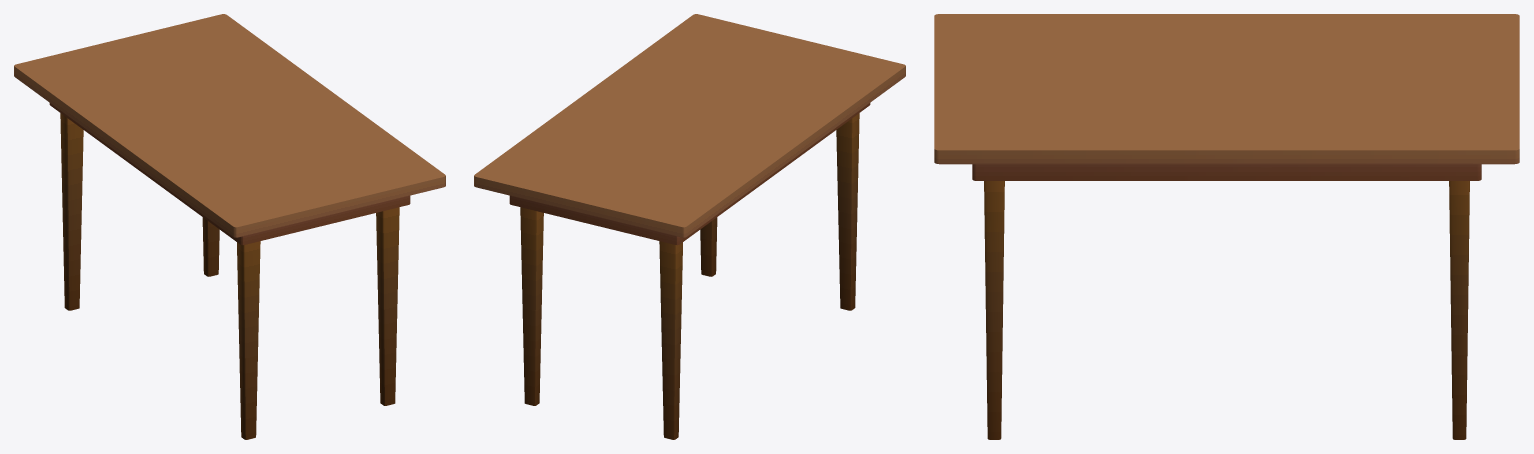
File: table1.fbx
3 views of the same model, side by side, from view 1: azimuth 30°, elevation 25°; view 2: azimuth 150°, elevation 25°; view 3: azimuth 270°, elevation 25° (orthographic). The views are drawn at different scales.
Parts seen in each view (by area): view 1: table1; view 2: table1; view 3: table1.
Part boxes in pixels (bbox=[...]): table1: bbox=[14, 14, 445, 439]; table1: bbox=[474, 14, 905, 439]; table1: bbox=[934, 14, 1519, 439].
Size of the model in its own units: 134 by 142 by 243.
